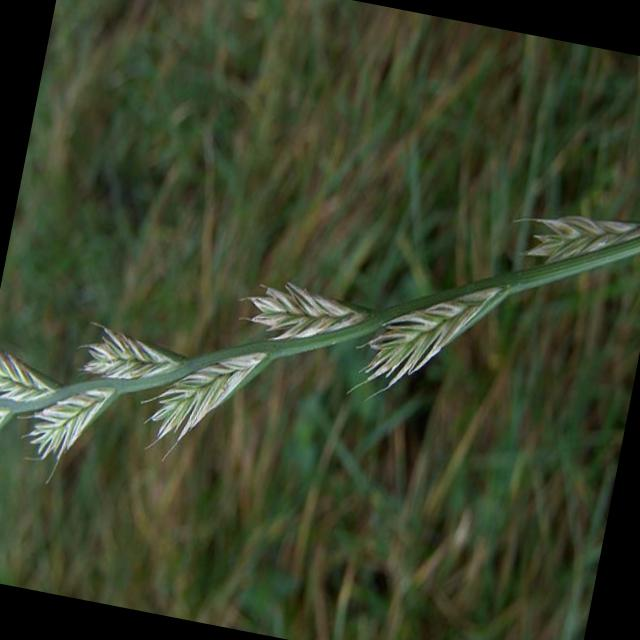Lolium: (0, 95, 640, 592)
